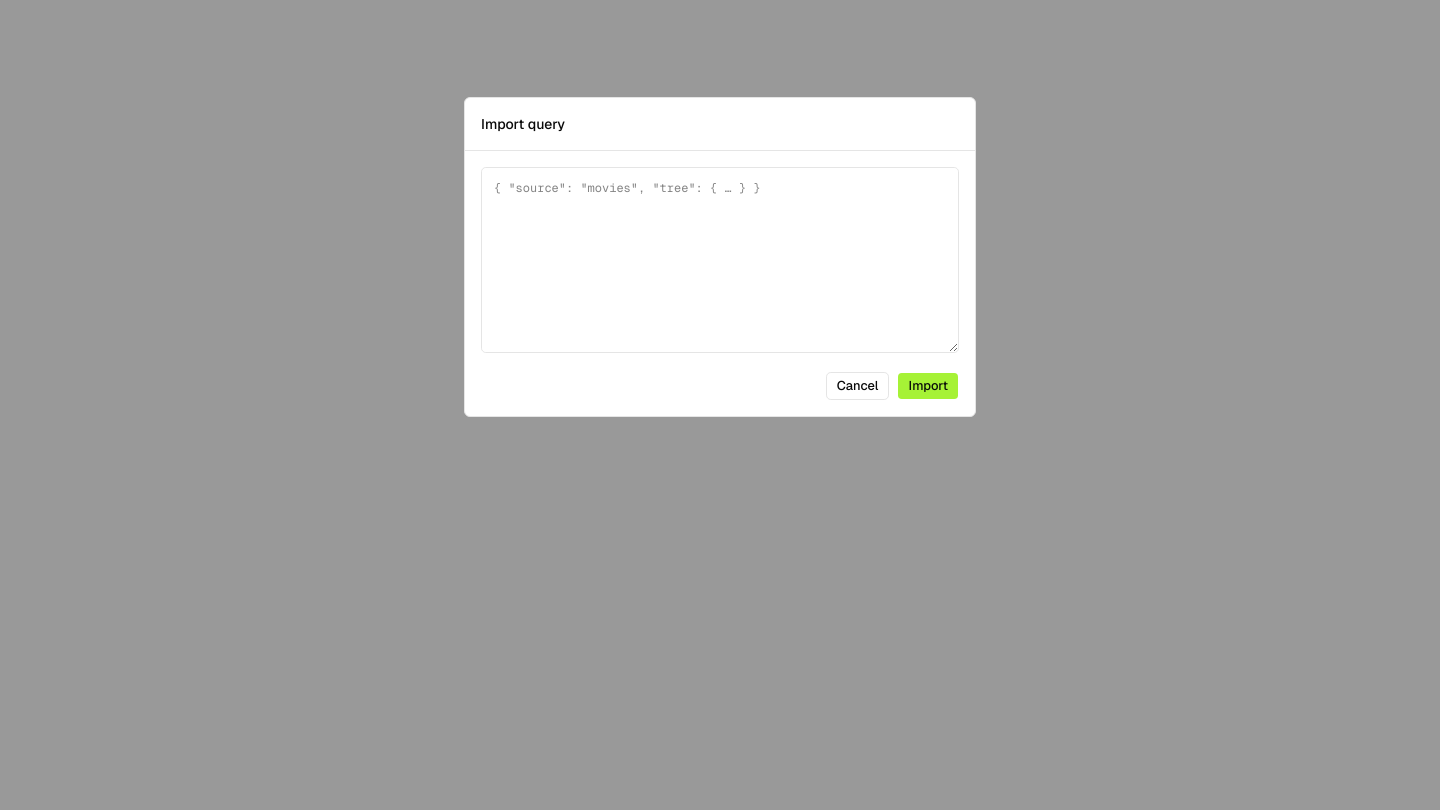
it: import dialog › shows an inline error for invalid JSON
This screenshot has width=1440, height=810.
# fireEvent.change avoids userEvent treating JSON braces as special keys
In the text box named "Query JSON": (720, 260) [481,167,959,353], type "not json"
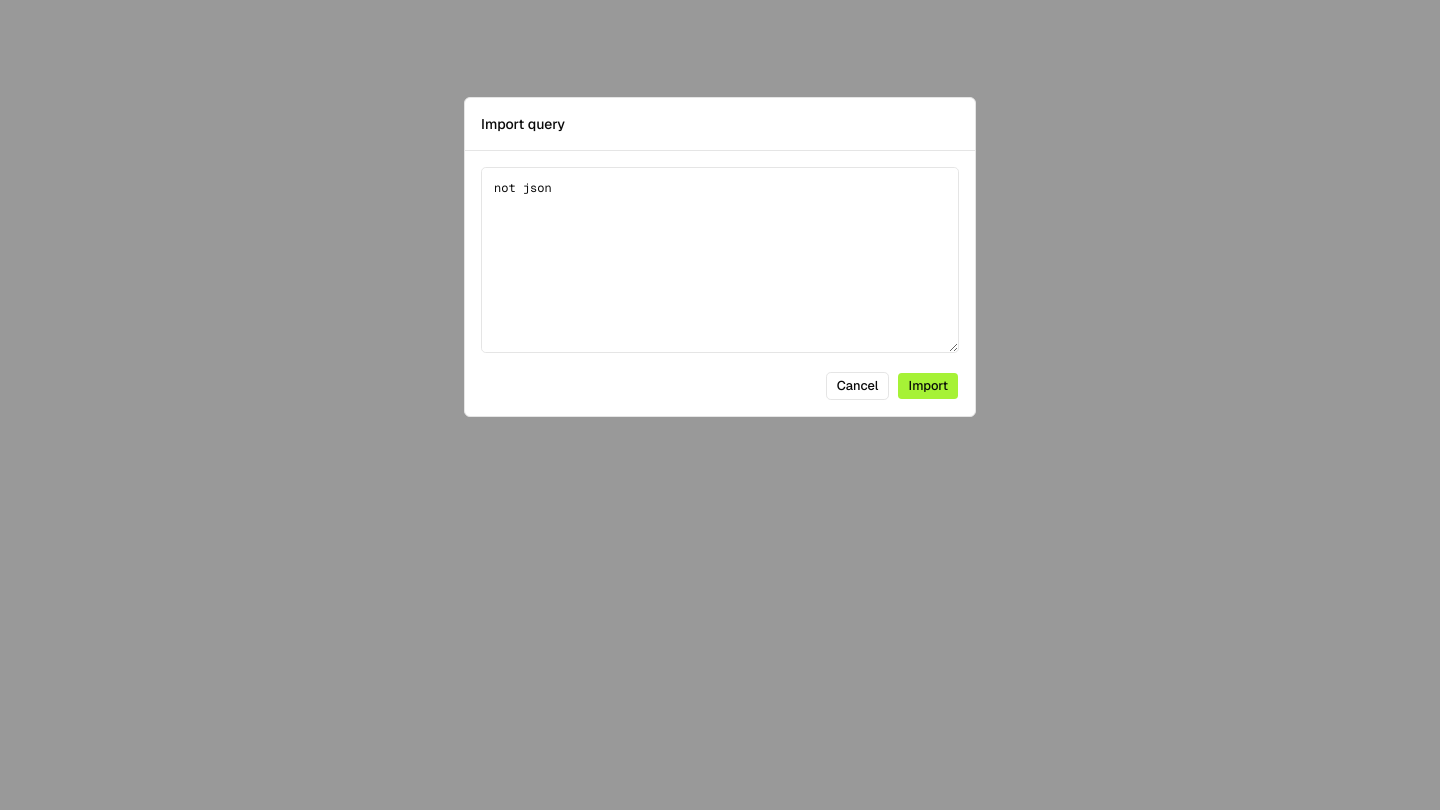
Click the button "Import": (928, 386) [898,372,959,400]
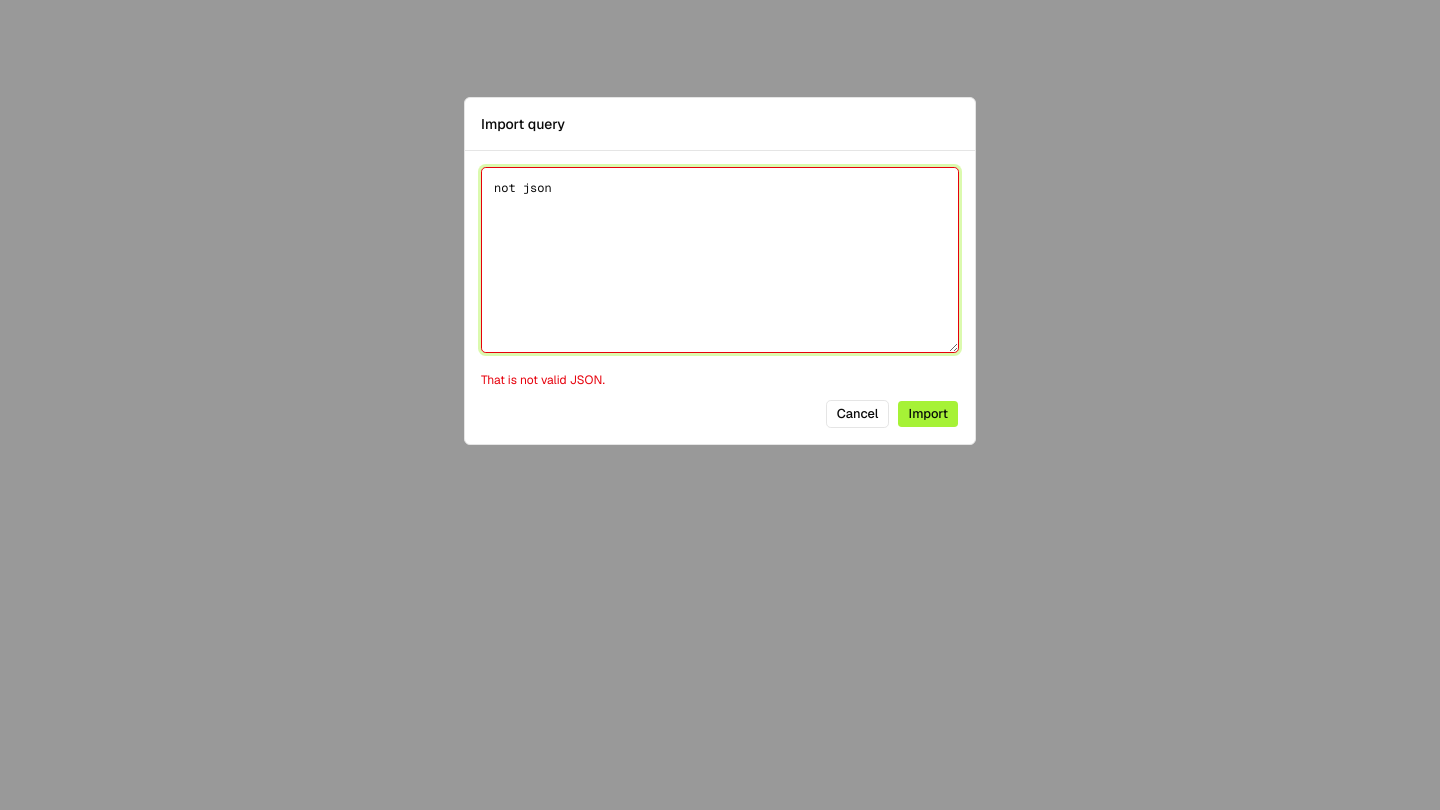
Check: the text "That is not valid JSON." is shown, box [481,372,605,388]
